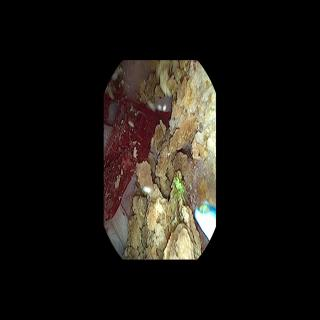fiber: (195, 202, 215, 238)
laser: (176, 177, 183, 190)
stone: (123, 63, 215, 257)
